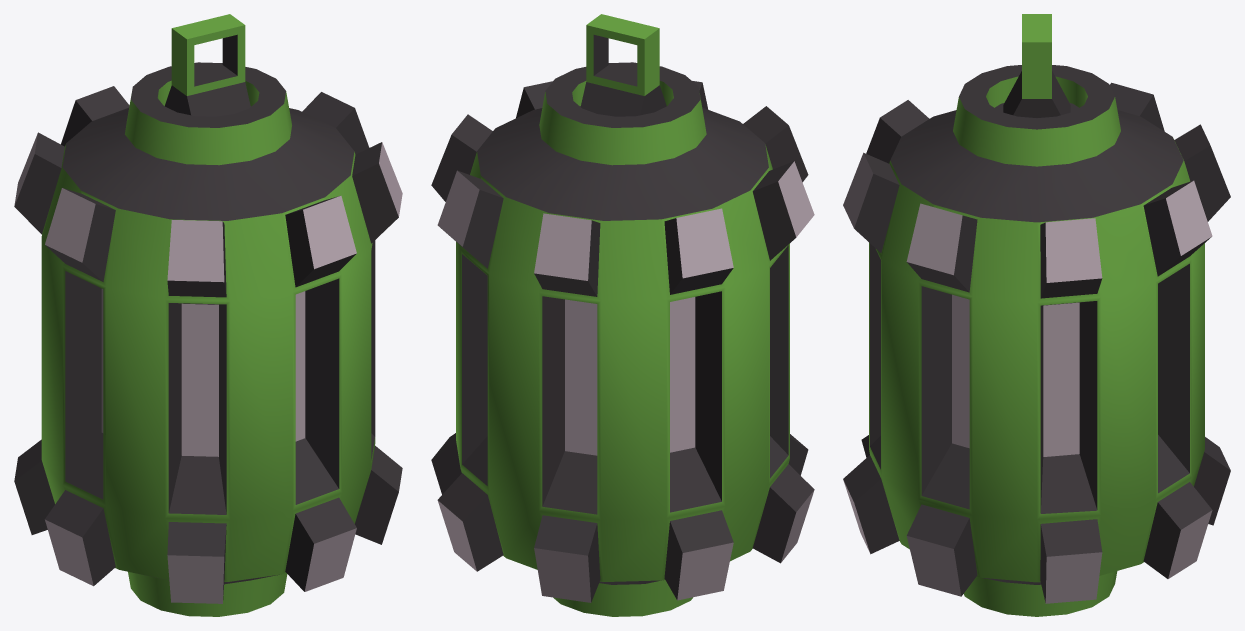
The model's file is Grenade.fbx.
The picture shows the model from 3 angles, left to right: view 1: azimuth 30°, elevation 25°; view 2: azimuth 150°, elevation 25°; view 3: azimuth 270°, elevation 25°; orthographic projection.
Parts seen in each view (by area): view 1: Cube; view 2: Cube; view 3: Cube.
Boxes of the visible parts, x1,y1,x2,y2 form: Cube: (14,14,402,616); Cube: (431,14,814,616); Cube: (843,14,1230,616).
Size of the model in its own units: 170 by 269 by 170.
